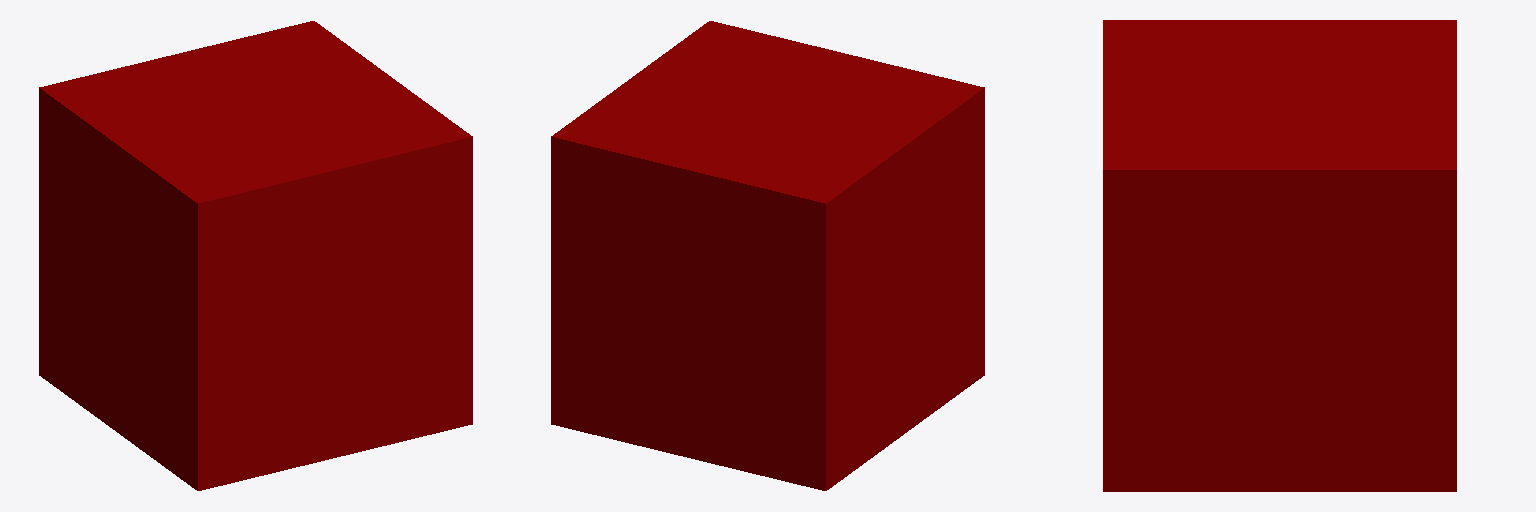
The robot description file, URDF, robot "robot":
<?xml version="1.0"?>
<!-- This URDF was automatically created by SolidWorks to URDF Exporter! Originally created by [author] ([email redacted]) 
     Commit Version: 1.6.0-4-g7f85cfe  Build Version: 1.6.7995.38578
     For more information, please see http://wiki.ros.org/sw_urdf_exporter -->
<robot
  name="robot">
  <link
    name="base_link">
    <inertial>
      <origin
        xyz="0.0227485188690984 -0.00204996608721864 -0.000468889910568399"
        rpy="0 0 0" />
      <mass
        value="104.307293916567" />
      <inertia
        ixx="3.85522334326568"
        ixy="-0.0115971485183534"
        ixz="0.0436205513289232"
        iyy="9.21224718931023"
        iyz="0.0260621162519827"
        izz="6.05412662966756" />
    </inertial>
    <visual>
      <origin
        xyz="0 0 0"
        rpy="0 0 0" />
      <geometry>
        <box size="1.0 1.0 1.0" />
      </geometry>

      <!-- Change MAIN BODY color -->
      <material
        name="red_plastic">
        <color
          rgba="0.6 0.02 0.02 1" />
      </material>

    </visual>
    <collision>
      <origin
        xyz="0 0 0"
        rpy="0 0 0" />
      <geometry>
        <box size="1.0 1.0 1.0" />
      </geometry>
    </collision>
  </link>

  <link name="world"/>
  <joint name="base_joint" type="fixed">
    <parent link="world"/>
    <child link="base_link"/>
    <origin rpy="1.5708 0 0" xyz="0.2 0.2 0.45"/>
  </joint>


  <!-- """""""""""""""""""""""""""""""""""""""""""""""""""""""""""""""""""""""""""""" -->

  <gazebo>
    <plugin name="control"
      filename="libgazebo_ros_control.so">
      <robotNamespace>/</robotNamespace>
    </plugin>
  </gazebo>

  <!-- """""""""""""""""""""""""""""""""""""""""""""""""""""""""""""""""""""""""""""" -->


</robot>

--- Facts derived from the render (not from the file) ---
Views: 3 orthographic renders of the robot side by side, from view 1: azimuth 30°, elevation 25°; view 2: azimuth 150°, elevation 25°; view 3: azimuth 270°, elevation 25°.
Robot: robot — 2 links, 1 joints (1 fixed); root link world; default pose: all joints at 0.
Visible links, largest first — view 1: base_link; view 2: base_link; view 3: base_link.
Link boxes in pixels (left/top/right/bottom): base_link: left=39, top=21, right=472, bottom=490; base_link: left=551, top=21, right=984, bottom=490; base_link: left=1103, top=20, right=1456, bottom=491.
Bounding box of the posed robot: 1 × 1 × 1 m (x, y, z).
Geometry: primitives only (box / cylinder / sphere), no mesh files.
